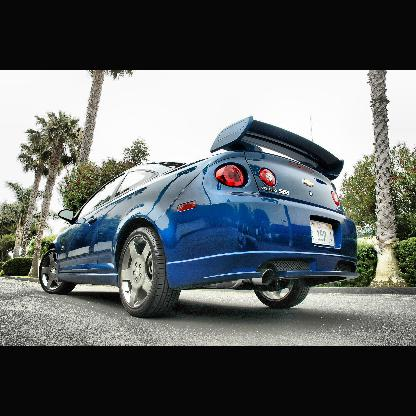Chevrolet Cobalt SS 2010: (39, 116, 359, 318)
